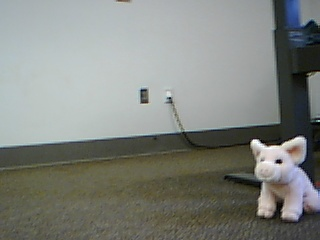piggy: (247, 134, 320, 224)
